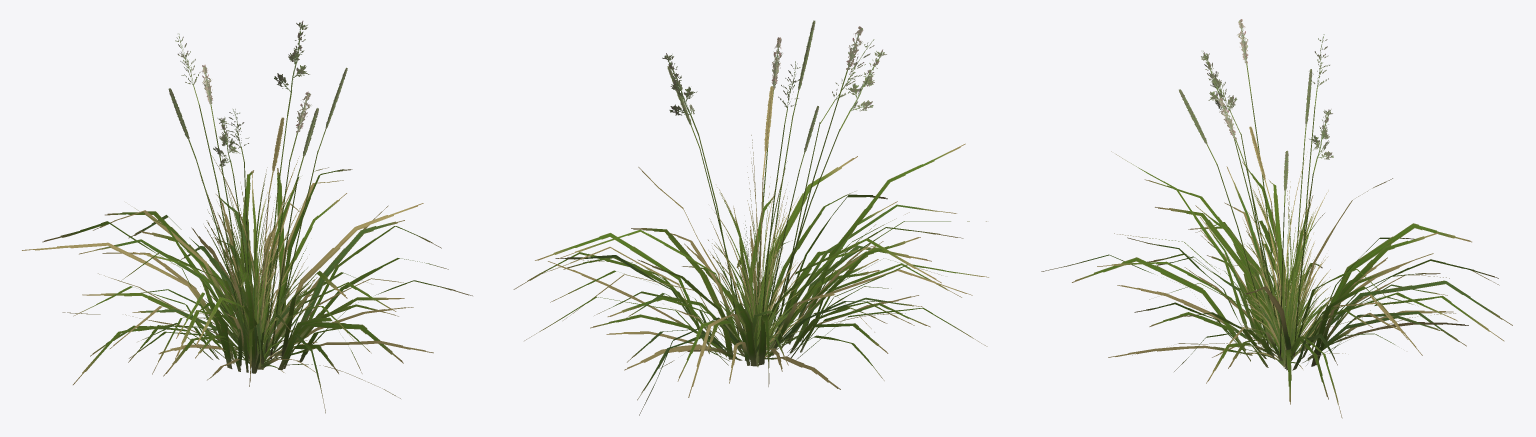
File: wild-meadow-grass.glb
3 renders of one model, left to right at view 1: azimuth 30°, elevation 25°; view 2: azimuth 150°, elevation 25°; view 3: azimuth 270°, elevation 25°, orthographic. The views are drawn at different scales.
Parts seen in each view (by area): view 1: grass_lod1; view 2: grass_lod1; view 3: grass_lod1.
Boxes of the visible parts, box(x1,y1,x2,y2) form: grass_lod1: box(22, 21, 472, 413); grass_lod1: box(513, 20, 988, 415); grass_lod1: box(1041, 19, 1512, 418).
Size of the model in its own units: 0.9272 by 0.7078 by 0.9951.
1 material, 1 textured.
